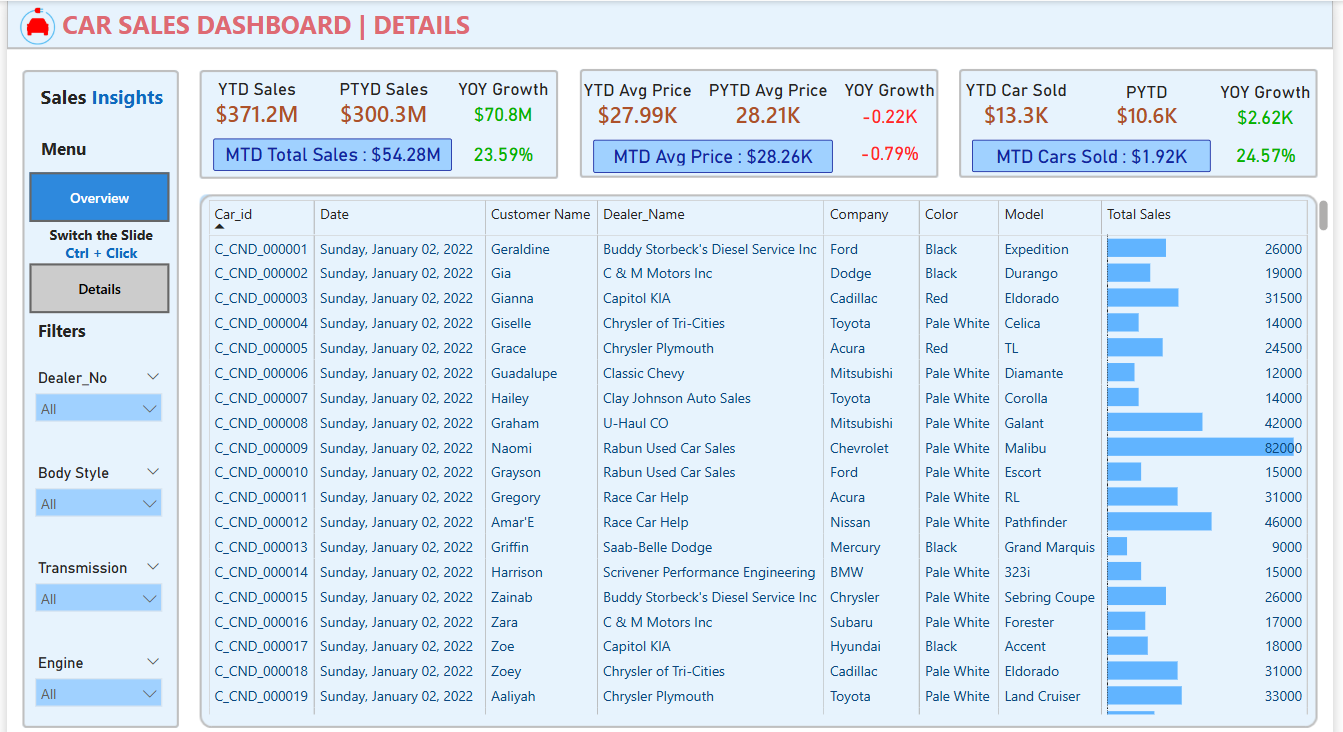

Layout of this report page (visuals, bound fields, positions):
{"tool":"powerbi","page":{"name":"Details","canvas":[1280,720],"ordinal":1},"visuals":[{"type":"card","title":"YTD Sales","fields":{"Values":["car_data.Total YTD"]},"box":[190.6,75.2,101.3,51.9],"z":0},{"type":"card","title":"PTYD Sales","fields":{"Values":["car_data.PTYD Total Sales"]},"box":[310.1,75.2,107.4,51.9],"z":1000},{"type":"card","title":"YOY Growth","fields":{"Values":["car_data.Sales Difference"]},"box":[429.5,75.2,98.9,51.9],"z":2000},{"type":"card","fields":{"Values":["car_data.%age YTD Sales"]},"box":[442.9,131.3,72.8,34],"z":3000},{"type":"card","title":"PTYD Sales","fields":{"Values":["car_data.MTD Total Sales"]},"box":[199,132.2,230.6,31.6],"z":4000},{"type":"card","title":"YTD Avg Price","fields":{"Values":["car_data.YTD Avg Price car sold"]},"box":[550.4,76.2,117,51.9],"z":5000},{"type":"card","title":"PYTD Avg Price","fields":{"Values":["car_data.PYTD Avg Price car sold"]},"box":[672.3,76.2,125.5,51.9],"z":6000},{"type":"card","title":"YTD Car Sold","fields":{"Values":["car_data.YTD Car Sold"]},"box":[915.6,75.7,116.7,51.6],"z":7000},{"type":"card","title":"YOY Growth","fields":{"Values":["car_data.Avg price difference"]},"box":[802.6,76.2,98.9,51.9],"z":8000},{"type":"card","title":"YOY Growth","fields":{"Values":["car_data.% age of Avg YTD"]},"box":[815.5,127.6,72.8,40],"z":9000},{"type":"card","title":"PTYD Sales","fields":{"Values":["car_data.MTD Avg Price"]},"box":[566.4,133.8,231,31.9],"z":10000},{"type":"card","title":"PYTD","fields":{"Values":["car_data.PYTD Car Sold"]},"box":[1037.5,76.7,125,49.8],"z":11000},{"type":"card","title":"YOY Growth","fields":{"Values":["car_data.Car sold difference"]},"box":[1165,76.7,98.3,52.2],"z":12000},{"type":"card","title":"YOY Growth","fields":{"Values":["car_data.% age of Car sold YTD"]},"box":[1180.7,132.5,68,34],"z":13000},{"type":"card","title":"PTYD Sales","fields":{"Values":["car_data.MTD Cars Sold"]},"box":[932,133.4,230.6,31.6],"z":14000},{"type":"slicer","fields":{"Values":["car_data.Transmission"]},"box":[16.9,533.1,143.2,69.2],"z":15000},{"type":"slicer","fields":{"Values":["car_data.Engine"]},"box":[16.9,625,143.2,69.2],"z":16000},{"type":"slicer","fields":{"Values":["car_data.Dealer_No "]},"box":[16.9,349.5,143.2,69.2],"z":17000},{"type":"slicer","fields":{"Values":["car_data.Dealer_Region"]},"box":[16.9,441.3,143.2,69.2],"z":18000},{"type":"textbox","box":[48.3,1.2,442.8,48.3],"z":19000},{"type":"textbox","box":[17,75.2,149.3,40],"z":20000},{"type":"textbox","box":[17,126.2,75.2,32.8],"z":21000},{"type":"textbox","box":[17,302.2,71.6,40],"z":22000},{"type":"textbox","box":[25.5,211.1,131.1,63.1],"z":23000},{"type":"tableEx","fields":{"Values":["car_data.Car_id","car_data.Date","car_data.Customer Name","car_data.Dealer_Name","car_data.Company","car_data.Color","car_data.Model","car_data.Price ($)"]},"box":[188.2,187,1091.8,506.7],"z":24000},{"type":"pageNavigator","box":[21.7,165.3,135.1,136.3],"z":25000},{"type":"image","box":[1,1.2,56.7,45.8],"z":26000}]}

Visuals, with their boxes on the page's 1280x720 design canvas (x1, y1, x2, y2). These are canvas units, not pixel positions in the 1343x732 screenshot, which may show the page scaled, cropped or inside an application window:
"YTD Sales" card: bbox=(191, 75, 292, 127)
"PTYD Sales" card: bbox=(310, 75, 418, 127)
"YOY Growth" card: bbox=(430, 75, 528, 127)
card - car_data.%age YTD Sales: bbox=(443, 131, 516, 165)
"PTYD Sales" card: bbox=(199, 132, 430, 164)
"YTD Avg Price" card: bbox=(550, 76, 667, 128)
"PYTD Avg Price" card: bbox=(672, 76, 798, 128)
"YTD Car Sold" card: bbox=(916, 76, 1032, 127)
"YOY Growth" card: bbox=(803, 76, 902, 128)
"YOY Growth" card: bbox=(816, 128, 888, 168)
"PTYD Sales" card: bbox=(566, 134, 797, 166)
"PYTD" card: bbox=(1038, 77, 1162, 126)
"YOY Growth" card: bbox=(1165, 77, 1263, 129)
"YOY Growth" card: bbox=(1181, 132, 1249, 166)
"PTYD Sales" card: bbox=(932, 133, 1163, 165)
slicer - car_data.Transmission: bbox=(17, 533, 160, 602)
slicer - car_data.Engine: bbox=(17, 625, 160, 694)
slicer - car_data.Dealer_No : bbox=(17, 350, 160, 419)
slicer - car_data.Dealer_Region: bbox=(17, 441, 160, 510)
textbox: bbox=(48, 1, 491, 50)
textbox: bbox=(17, 75, 166, 115)
textbox: bbox=(17, 126, 92, 159)
textbox: bbox=(17, 302, 89, 342)
textbox: bbox=(26, 211, 157, 274)
tableEx - car_data.Car_id x car_data.Date: bbox=(188, 187, 1280, 694)
pageNavigator: bbox=(22, 165, 157, 302)
image: bbox=(1, 1, 58, 47)
